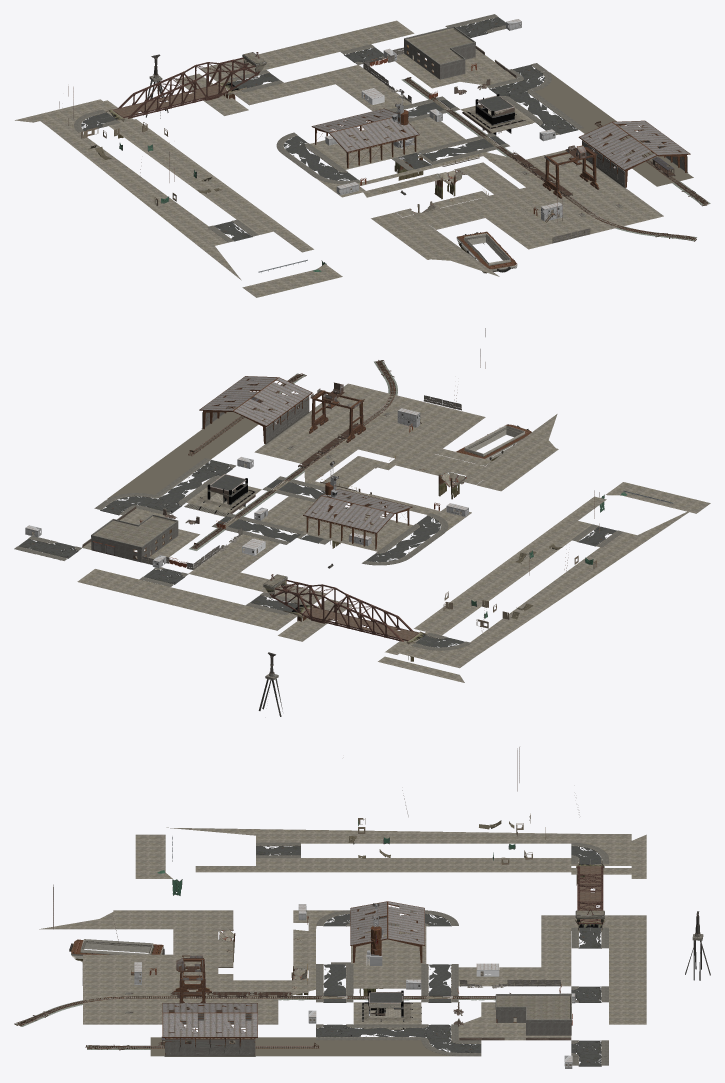
Rendered from harbor_2-map.glb.
3 views of the same model, one above another, from view 1: azimuth 30°, elevation 25°; view 2: azimuth 150°, elevation 25°; view 3: azimuth 270°, elevation 25° (orthographic). The views are drawn at different scales.
Visible parts, largest first — view 1: temperate, road_9x15_LOD0, swing_bridge_LOD0, warehouse_large_core_LOD0, train_crane_a_LOD0, office_bld_a_ext_LOD0, road_9x15_railway_LOD0, portacabin_building_300_600_b_LOD0, corridor_train_tunnel_entrance_a_LOD0, swing_bridge_ramp_C_LOD0, wall_conc_300x300, barge_base_3600_LOD0 (+1 smaller); view 2: temperate, road_9x15_LOD0, swing_bridge_LOD0, warehouse_large_core_LOD0, train_crane_a_LOD0, office_bld_a_ext_LOD0, road_9x15_railway_LOD0, portacabin_building_300_600_b_LOD0, corridor_train_tunnel_entrance_a_LOD0, barge_base_3600_LOD0, wall_conc_300x300, swing_bridge_ramp_C_LOD0; view 3: temperate, road_9x15_LOD0, warehouse_large_core_LOD0, swing_bridge_LOD0, office_bld_a_ext_LOD0, train_crane_a_LOD0, road_9x15_railway_LOD0, corridor_train_tunnel_entrance_a_LOD0, portacabin_building_300_600_b_LOD0, barge_base_3600_LOD0, wall_conc_300x300, wall_125x900.
Part boxes in pixels (<box>): temperate: <box>15,20,693,297</box>; road_9x15_LOD0: <box>74,14,623,242</box>; swing_bridge_LOD0: <box>109,26,688,210</box>; warehouse_large_core_LOD0: <box>312,109,689,169</box>; train_crane_a_LOD0: <box>312,108,690,269</box>; office_bld_a_ext_LOD0: <box>149,27,687,273</box>; road_9x15_railway_LOD0: <box>401,77,710,241</box>; portacabin_building_300_600_b_LOD0: <box>325,19,562,221</box>; corridor_train_tunnel_entrance_a_LOD0: <box>462,94,525,137</box>; swing_bridge_ramp_C_LOD0: <box>105,79,500,212</box>; wall_conc_300x300: <box>363,47,590,243</box>; barge_base_3600_LOD0: <box>456,233,517,273</box>; temperate: <box>77,383,710,682</box>; road_9x15_LOD0: <box>14,403,623,650</box>; swing_bridge_LOD0: <box>91,376,464,641</box>; warehouse_large_core_LOD0: <box>200,376,411,532</box>; train_crane_a_LOD0: <box>199,376,531,549</box>; office_bld_a_ext_LOD0: <box>91,377,530,680</box>; road_9x15_railway_LOD0: <box>188,360,397,550</box>; portacabin_building_300_600_b_LOD0: <box>25,408,468,568</box>; corridor_train_tunnel_entrance_a_LOD0: <box>198,474,255,514</box>; barge_base_3600_LOD0: <box>460,425,525,464</box>; wall_conc_300x300: <box>142,395,461,569</box>; swing_bridge_ramp_C_LOD0: <box>224,467,463,661</box>; temperate: <box>39,827,646,1056</box>; road_9x15_LOD0: <box>125,842,608,1066</box>; warehouse_large_core_LOD0: <box>162,901,424,1036</box>; swing_bridge_LOD0: <box>162,864,604,1043</box>; office_bld_a_ext_LOD0: <box>73,901,703,1056</box>; train_crane_a_LOD0: <box>71,901,424,1047</box>; road_9x15_railway_LOD0: <box>14,993,510,1050</box>; corridor_train_tunnel_entrance_a_LOD0: <box>362,990,421,1028</box>; portacabin_building_300_600_b_LOD0: <box>134,904,575,1068</box>; barge_base_3600_LOD0: <box>71,939,163,962</box>; wall_conc_300x300: <box>82,961,560,993</box>; wall_125x900: <box>364,1002,571,1040</box>.
Size of the model in its own units: 231 by 62.11 by 278.
Materials: 69 (69 with a texture image).
